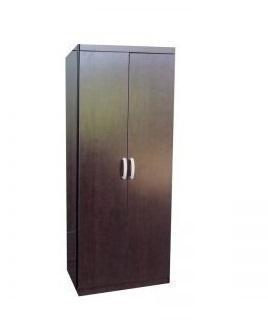Armario: (58, 40, 176, 298)
